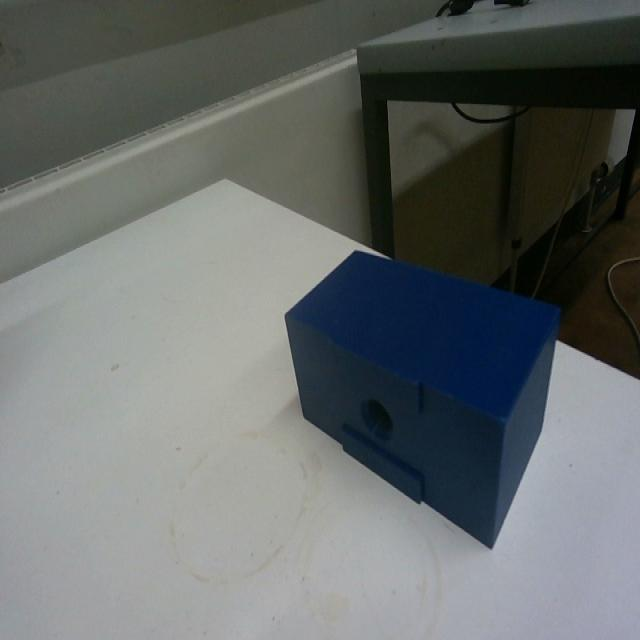Blue Cuboid: (282, 244, 562, 549)
